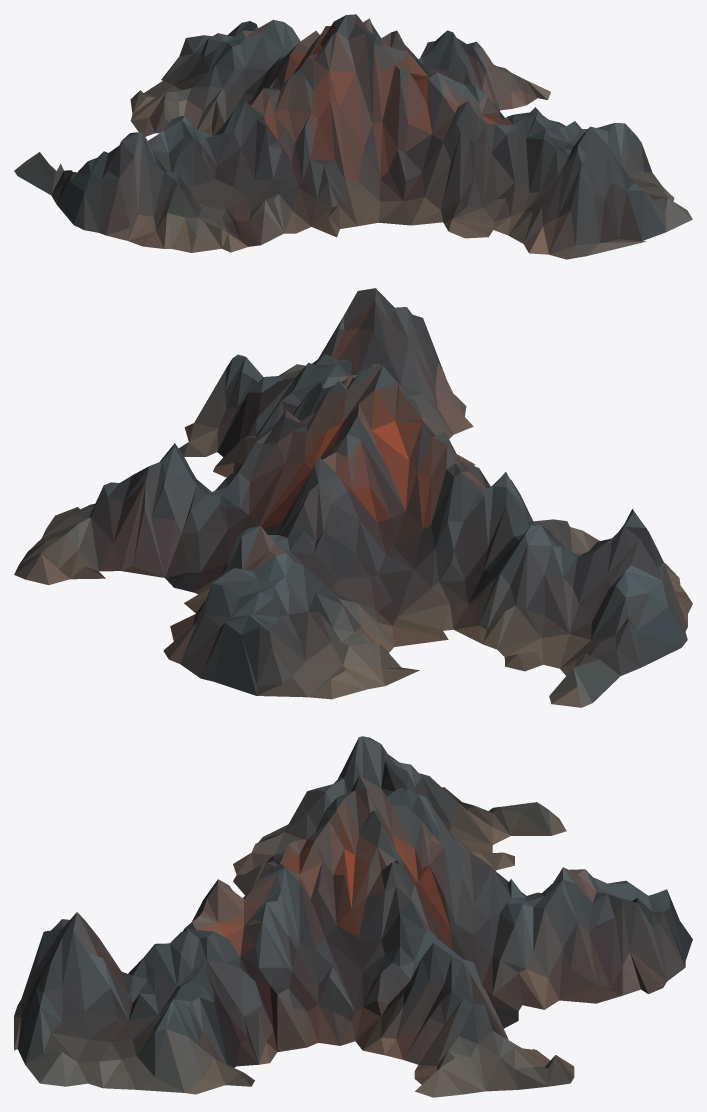
The model's file is Volcanic_G.fbx.
3 renders of one model, top to bottom at view 1: azimuth 30°, elevation 25°; view 2: azimuth 150°, elevation 25°; view 3: azimuth 270°, elevation 25°, orthographic. The views are drawn at different scales.
Visible parts, largest first — view 1: Volcanic_G; view 2: Volcanic_G; view 3: Volcanic_G.
Part boxes in pixels (x1,y1,x2,y2): Volcanic_G: [14, 14, 692, 259]; Volcanic_G: [14, 288, 692, 707]; Volcanic_G: [14, 736, 692, 1097].
Bounding box in the file's own units: 9100 × 2769 × 9150.
